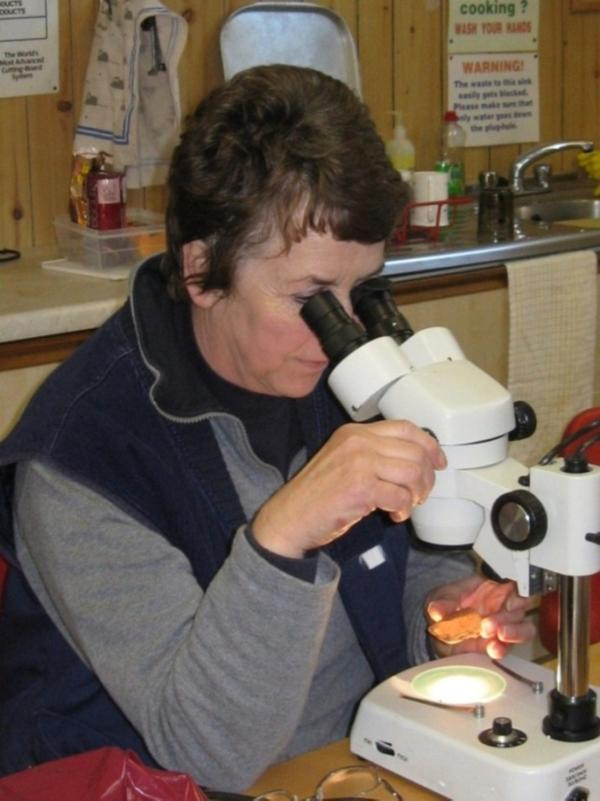person: (3, 69, 531, 792)
